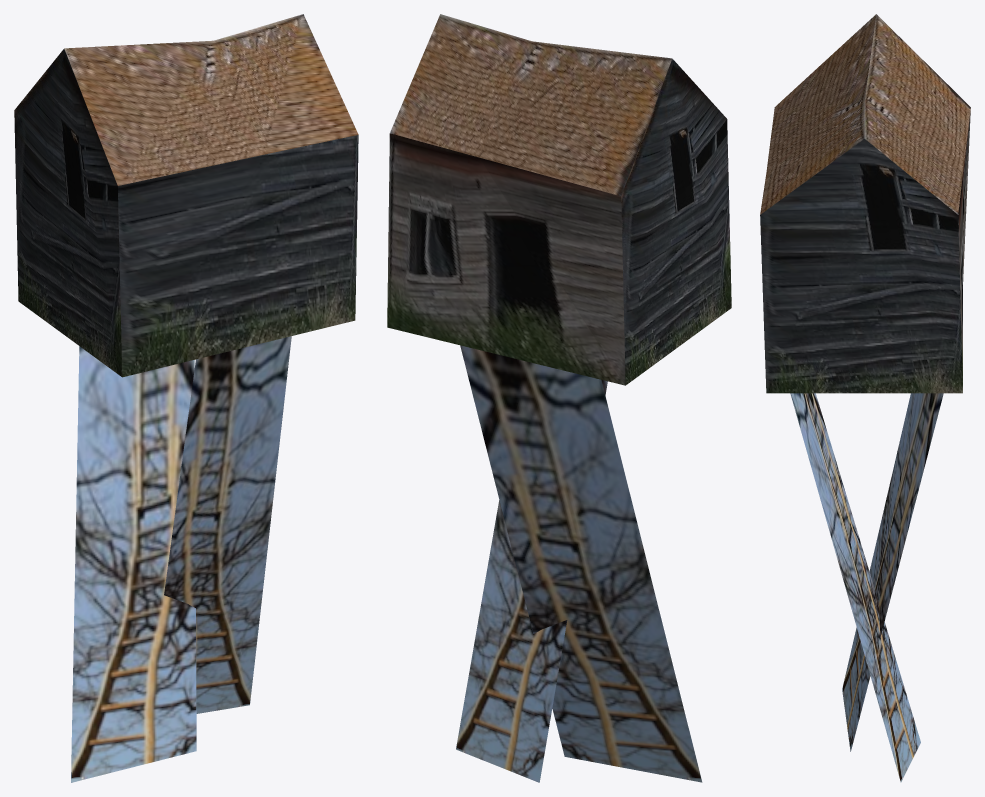
The model's file is shed1.obj.
The picture shows the model from 3 angles, left to right: view 1: azimuth 30°, elevation 25°; view 2: azimuth 150°, elevation 25°; view 3: azimuth 270°, elevation 25°; orthographic projection. The views are drawn at different scales.
Visible parts, largest first — view 1: Cube, aCube_Cube.001; view 2: Cube, aCube_Cube.001; view 3: Cube, aCube_Cube.001.
Boxes of the visible parts, x1=… form: Cube: x1=14, y1=14, x2=358, y2=377; aCube_Cube.001: x1=71, y1=336, x2=291, y2=782; Cube: x1=387, y1=14, x2=731, y2=385; aCube_Cube.001: x1=456, y1=345, x2=702, y2=782; Cube: x1=760, y1=14, x2=970, y2=393; aCube_Cube.001: x1=790, y1=393, x2=943, y2=782.
Bounding box in the file's own units: 2.72 × 7.67 × 2.14.
Materials: 2 (2 with a texture image).
